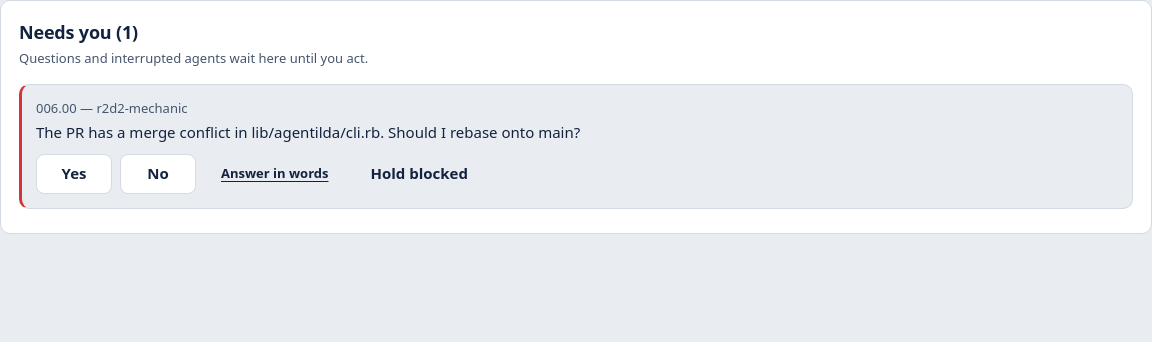
it: NeedsYou › answers a yes/no question with its buttons, or in words
This screenshot has width=1152, height=342.
What coordinates should you click on to do the following:
click the button "Answer in words"
I would click on:
 (275, 174)
Its box is top-left (204, 154), bottom-right (346, 194).
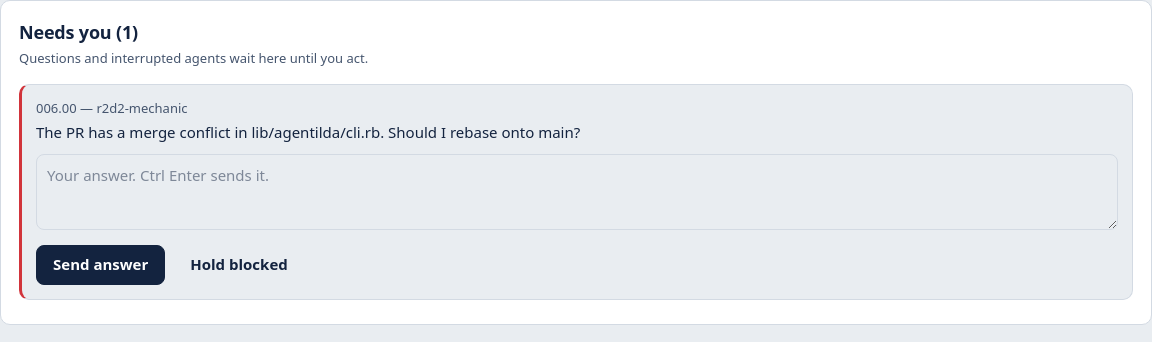
Check: the text box labelled "Your answer" is shown, box top-left (36, 154), bottom-right (1118, 230)
Check: the button "Yes" is gone
